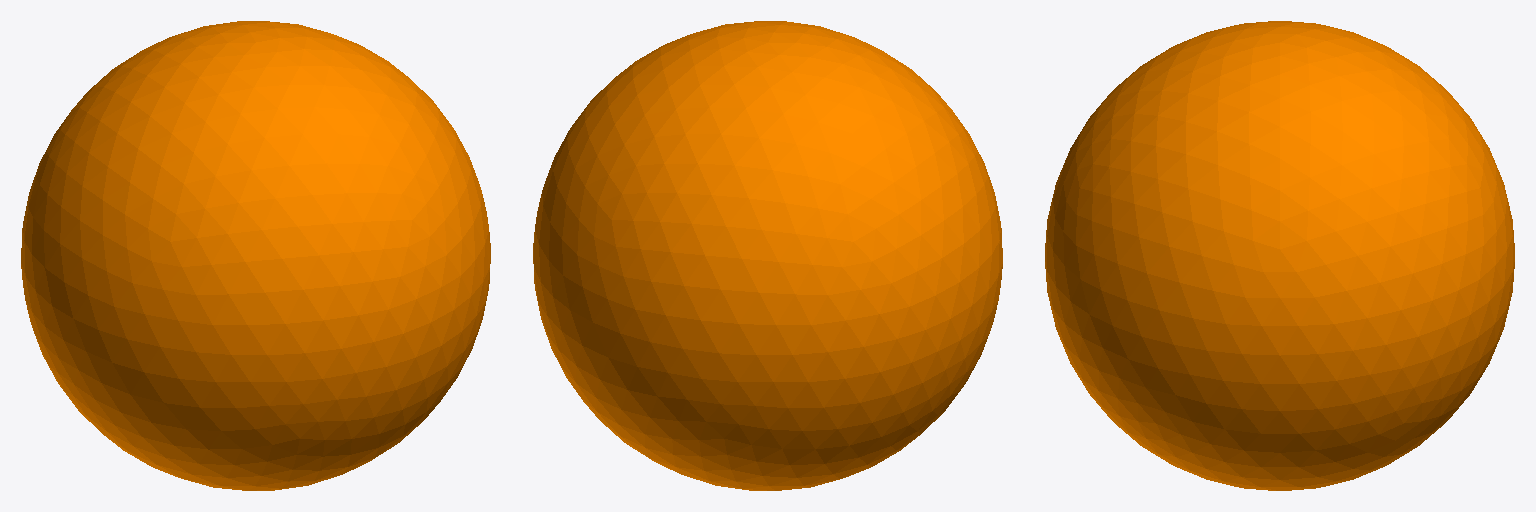
Rendered from happyface.obj.
3 views of the same model, side by side, from view 1: azimuth 30°, elevation 25°; view 2: azimuth 150°, elevation 25°; view 3: azimuth 270°, elevation 25° (orthographic).
Parts seen in each view (by area): view 1: Icosphere; view 2: Icosphere; view 3: Icosphere.
Part boxes in pixels (x1,y1,x2,y2): Icosphere: (21, 21, 490, 490); Icosphere: (533, 21, 1002, 490); Icosphere: (1045, 21, 1514, 490).
Bounding box in the file's own units: 2 × 2 × 2.